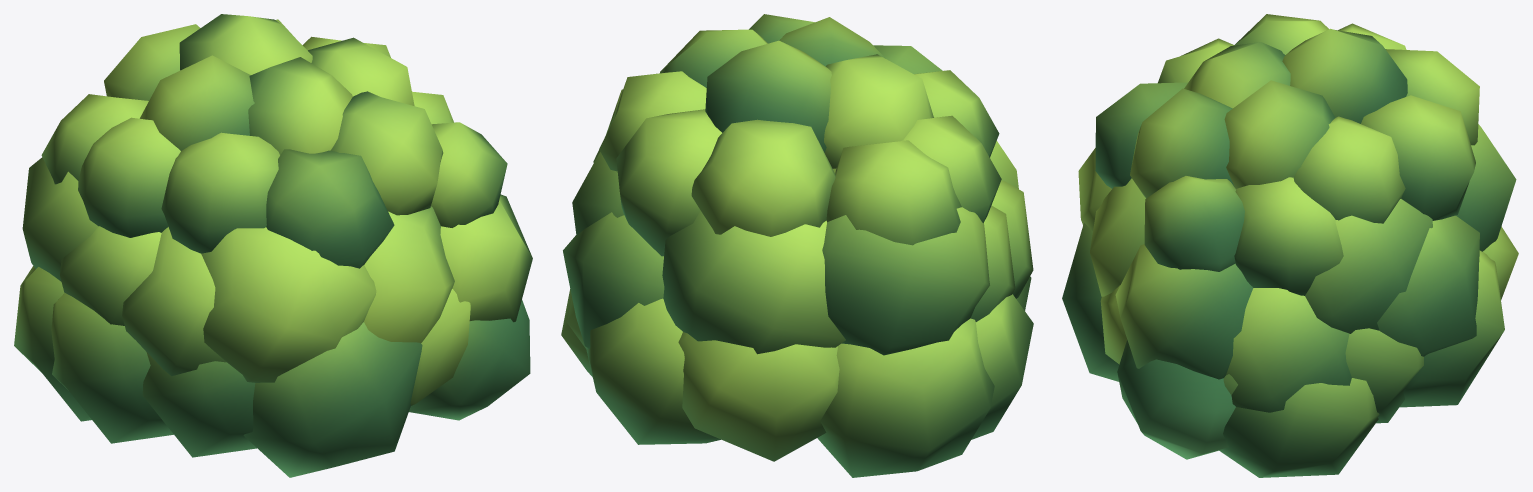
File: Bush.fbx
3 renders of one model, left to right at view 1: azimuth 30°, elevation 25°; view 2: azimuth 150°, elevation 25°; view 3: azimuth 270°, elevation 25°, orthographic. The views are drawn at different scales.
Parts seen in each view (by area): view 1: pCube61; view 2: pCube61; view 3: pCube61.
Part boxes in pixels (<box>): pCube61: <box>14,14,532,477</box>; pCube61: <box>561,14,1033,477</box>; pCube61: <box>1062,14,1518,477</box>.
Size of the model in its own units: 138 by 120 by 131.
